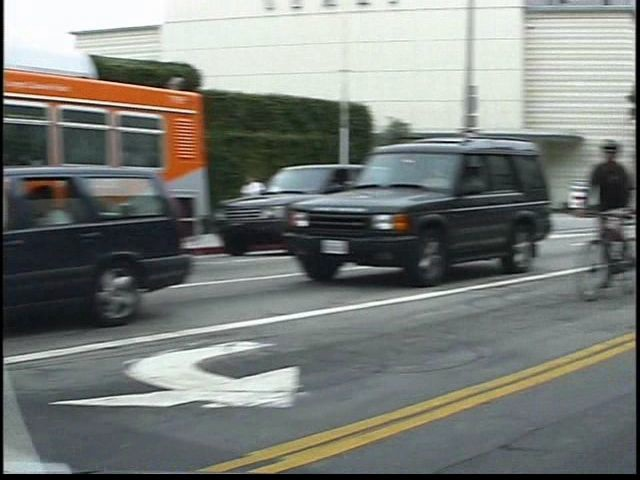person: (259, 173, 288, 243)
